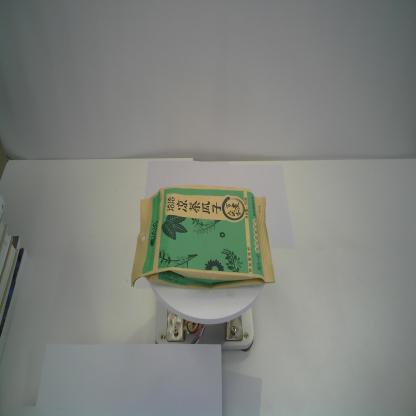Dried Food: (128, 183, 276, 288)
